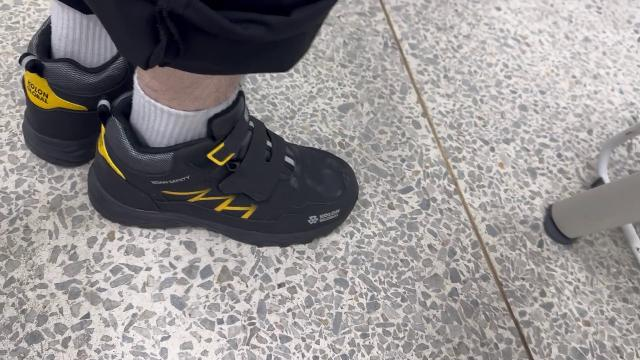shoe_worn: (82, 92, 367, 243), (20, 17, 138, 168)
